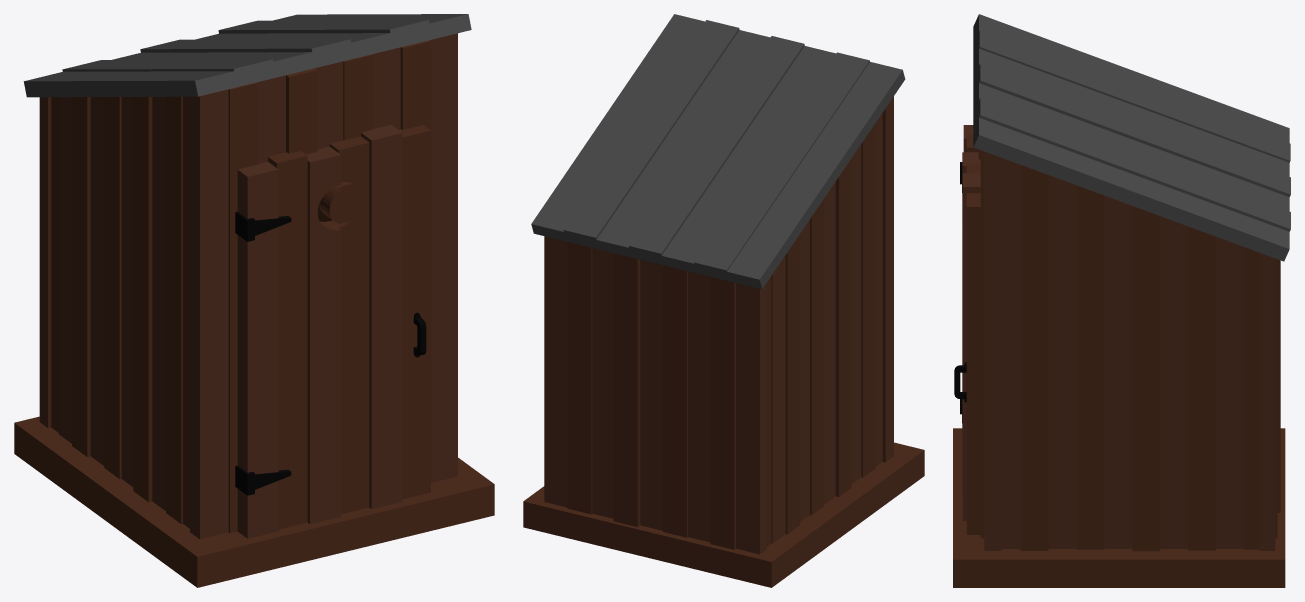
The model's file is Outhouse-HiveWinterShop2024.fbx.
The picture shows the model from 3 angles, left to right: view 1: azimuth 30°, elevation 25°; view 2: azimuth 150°, elevation 25°; view 3: azimuth 270°, elevation 25°; orthographic projection. The views are drawn at different scales.
Parts seen in each view (by area): view 1: Cube, Cube.001, Cube.002, Cube.005, Cube.003, Cube.006, Cube.007; view 2: Cube.002, Cube.003, Cube.001, Cube.005; view 3: Cube.001, Cube.003, Cube.005, Cube.002, Cube.
Part boxes in pixels (x1=…): Cube: x1=237, y1=124, x2=430, y2=538; Cube.001: x1=51, y1=96, x2=332, y2=528; Cube.002: x1=39, y1=33, x2=457, y2=539; Cube.005: x1=14, y1=416, x2=494, y2=587; Cube.003: x1=23, y1=14, x2=471, y2=97; Cube.006: x1=235, y1=211, x2=291, y2=241; Cube.007: x1=235, y1=465, x2=291, y2=495; Cube.002: x1=544, y1=96, x2=893, y2=554; Cube.003: x1=531, y1=14, x2=905, y2=289; Cube.001: x1=767, y1=113, x2=882, y2=546; Cube.005: x1=523, y1=442, x2=924, y2=587; Cube.001: x1=1001, y1=158, x2=1259, y2=551; Cube.003: x1=973, y1=14, x2=1290, y2=261; Cube.005: x1=953, y1=428, x2=1285, y2=587; Cube.002: x1=978, y1=149, x2=1280, y2=550; Cube: x1=962, y1=125, x2=980, y2=534.
Size of the model in its own units: 200 by 319 by 217.
